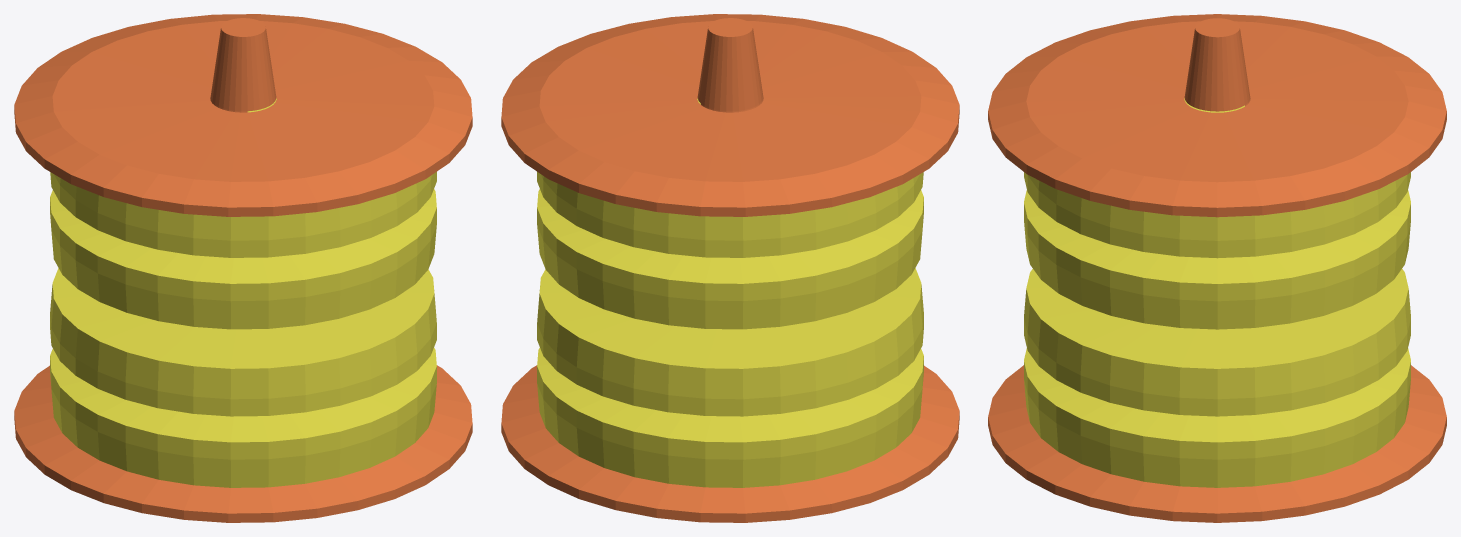
Rendered from mani_wheel.glb.
The picture shows the model from 3 angles, left to right: view 1: azimuth 30°, elevation 25°; view 2: azimuth 150°, elevation 25°; view 3: azimuth 270°, elevation 25°; orthographic projection.
Visible parts, largest first — view 1: mani wheel; view 2: mani wheel; view 3: mani wheel.
Boxes of the visible parts, x1,y1,x2,y2 form: mani wheel: (14, 14, 472, 522); mani wheel: (501, 14, 959, 522); mani wheel: (988, 14, 1446, 522).
Bounding box in the file's own units: 2.37 × 2.75 × 2.37.
